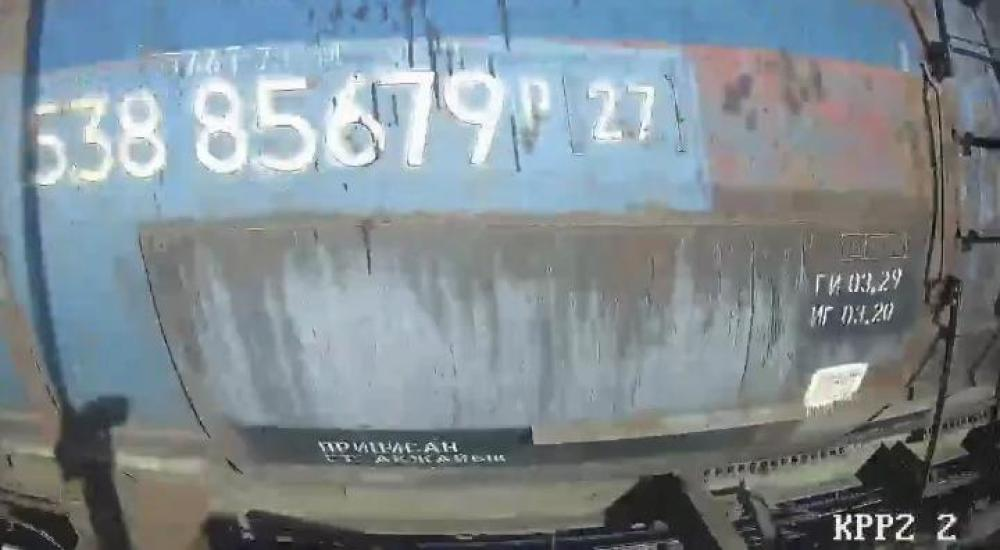Wagon-number: (19, 68, 512, 189)
